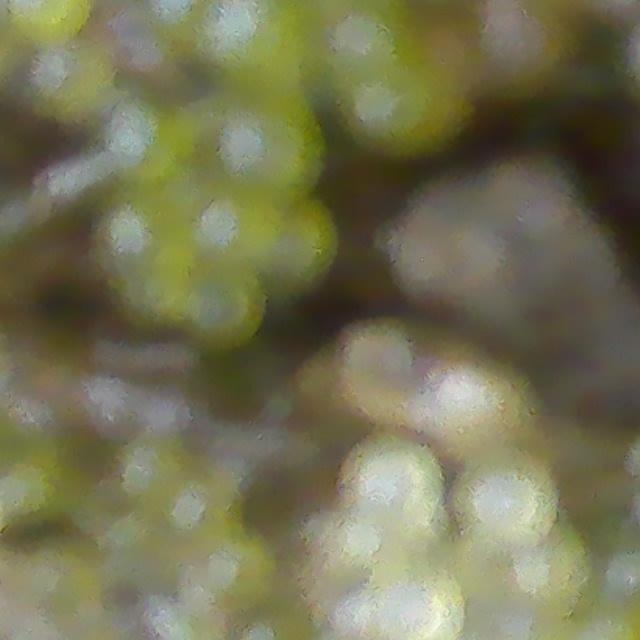SeaGrape: (334, 43, 466, 163), (220, 95, 326, 196), (419, 367, 527, 465), (206, 1, 312, 98), (340, 440, 440, 539), (457, 457, 559, 554), (352, 566, 475, 640), (93, 194, 186, 281), (180, 195, 278, 276), (106, 106, 197, 180), (188, 269, 266, 351), (35, 47, 114, 122), (270, 203, 334, 294)
